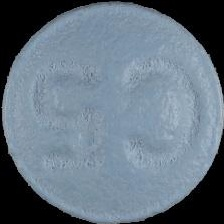21695-815: (0, 0, 224, 224)
